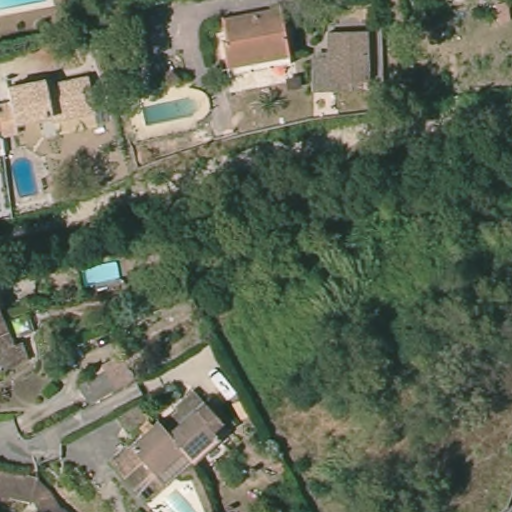pool: (141, 97, 201, 126), (9, 155, 43, 200), (77, 257, 124, 288), (152, 486, 199, 512), (1, 1, 58, 18)
